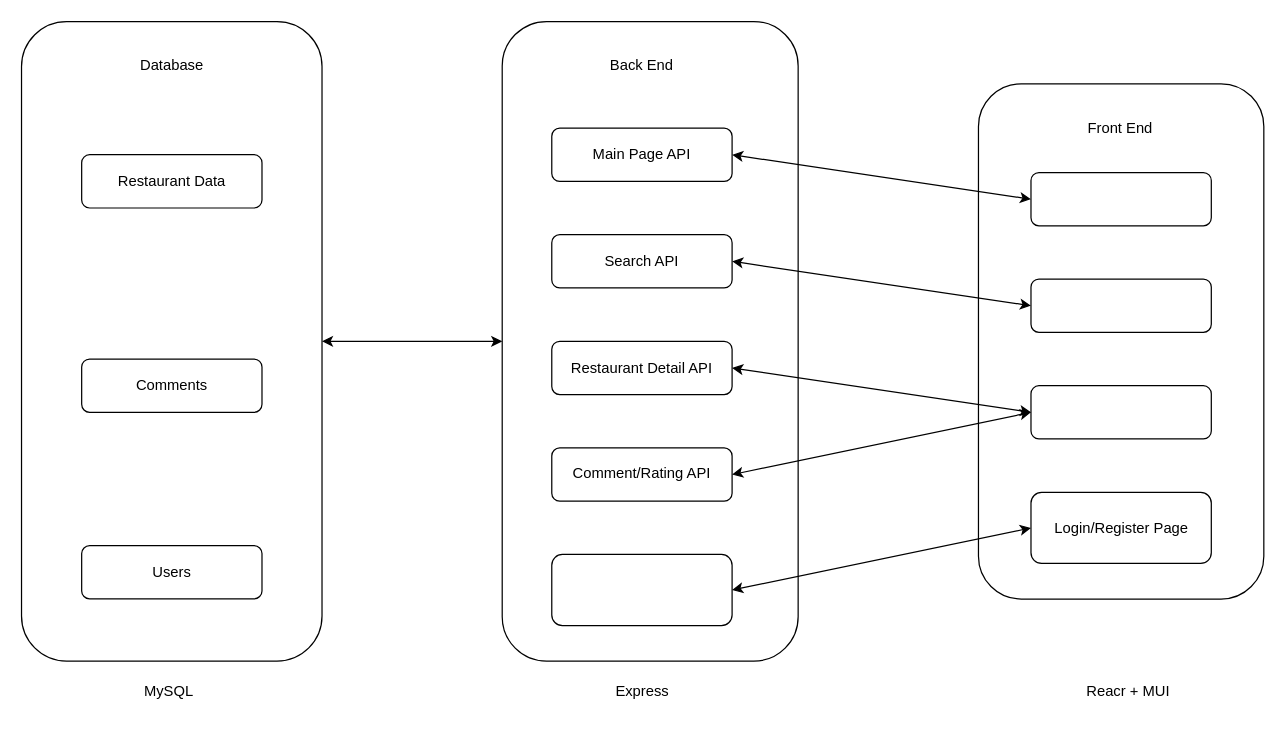
Image size: 1285x732. Some labels were removed from this diagram. Here are the shapes that lost their labels. From the top down, the box of each, then its label:
(1030, 171, 1211, 226): Main Page
(1030, 278, 1211, 332): Search Page
(1030, 384, 1211, 439): Detail Page
(551, 553, 732, 626): Login/Register API
